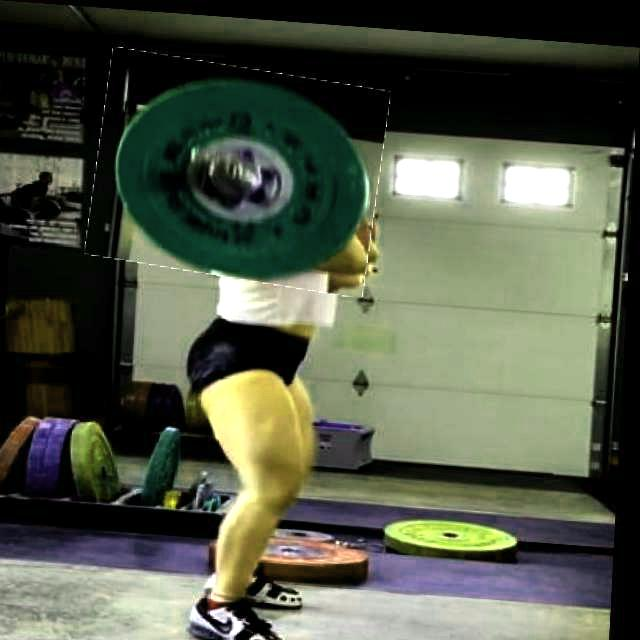barbell: (91, 50, 389, 287)
